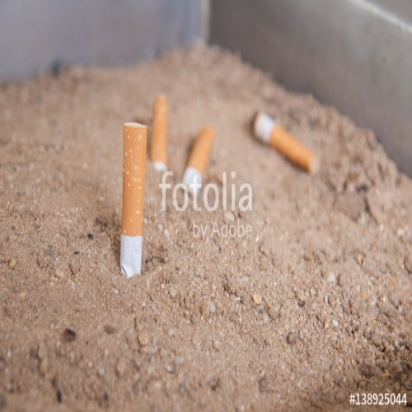cigarette: (114, 113, 151, 291), (248, 110, 323, 178), (182, 118, 215, 202), (148, 87, 170, 177)
